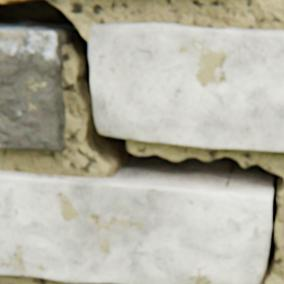brick: (0, 171, 272, 283), (89, 24, 283, 152), (0, 29, 66, 152)
crack: (0, 0, 283, 283)
